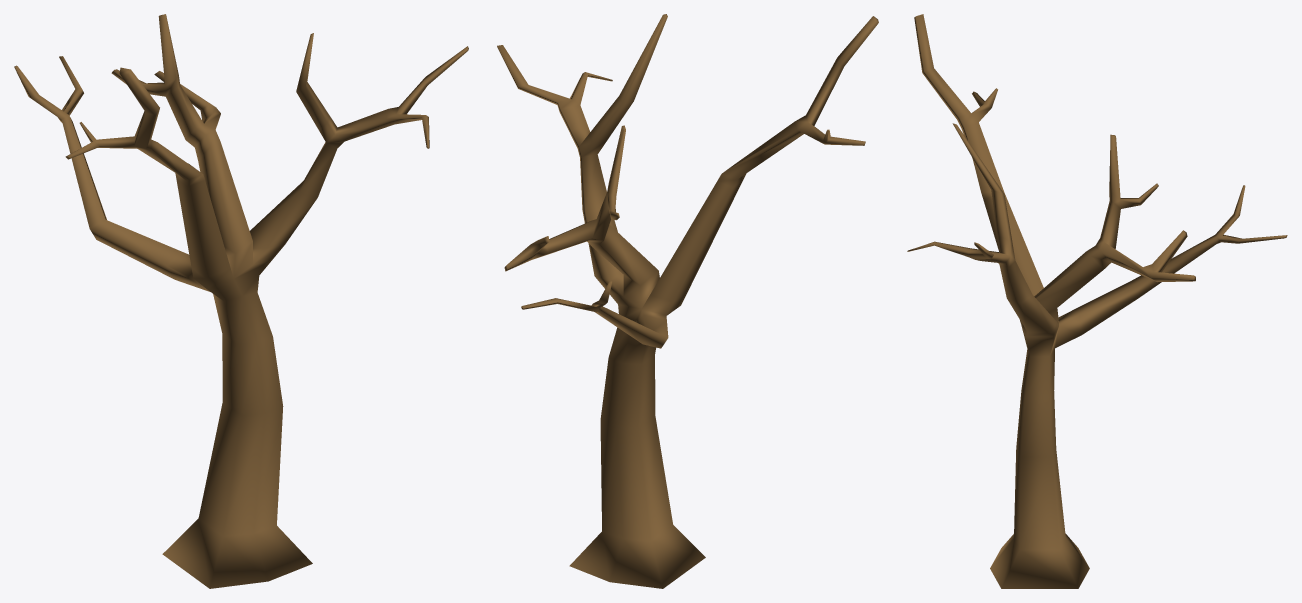
3 renders of one model, left to right at view 1: azimuth 30°, elevation 25°; view 2: azimuth 150°, elevation 25°; view 3: azimuth 270°, elevation 25°, orthographic. The views are drawn at different scales.
Visible parts, largest first — view 1: Cube.022; view 2: Cube.022; view 3: Cube.022.
Boxes of the visible parts, x1,y1,x2,y2 form: Cube.022: [14, 14, 468, 588]; Cube.022: [497, 14, 878, 588]; Cube.022: [907, 14, 1287, 588].
Bounding box in the file's own units: 209 × 292 × 210.
